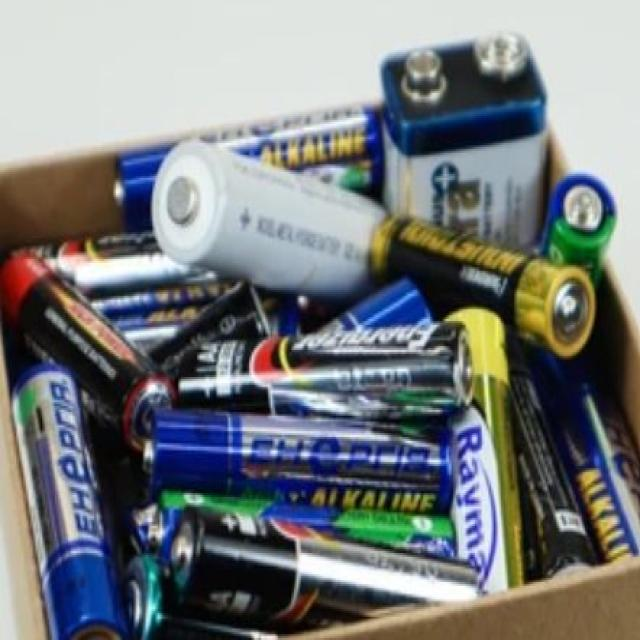electronic: (137, 479, 488, 640), (125, 394, 476, 536), (142, 120, 399, 308), (365, 184, 607, 371), (1, 208, 172, 471), (10, 370, 141, 640), (162, 338, 482, 419)
